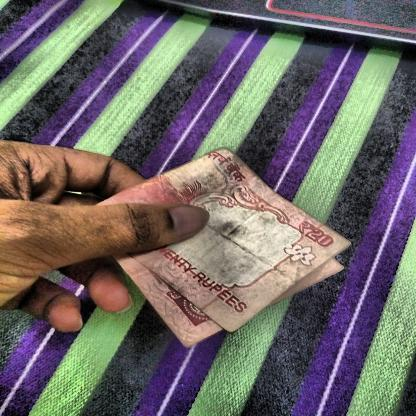Rs20: (288, 216, 341, 252)
